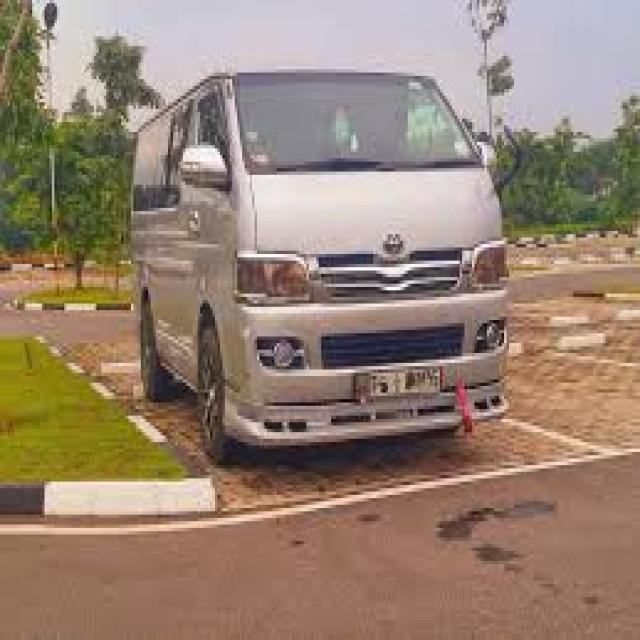van: (133, 69, 507, 459)
